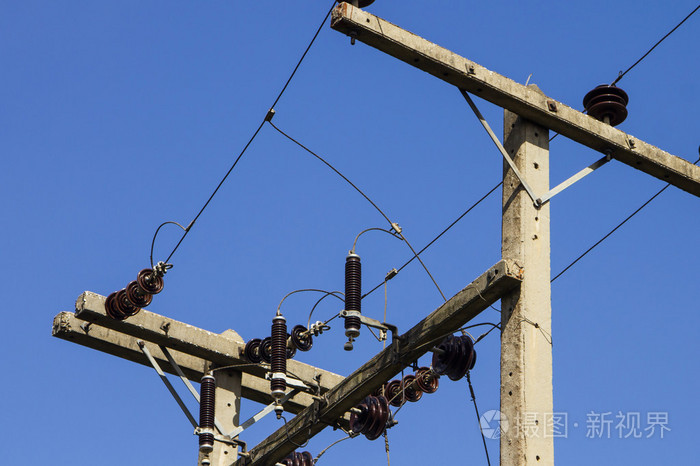insulator: (106, 268, 164, 322), (245, 322, 315, 363), (385, 367, 439, 406), (344, 395, 388, 439), (580, 85, 631, 121)
